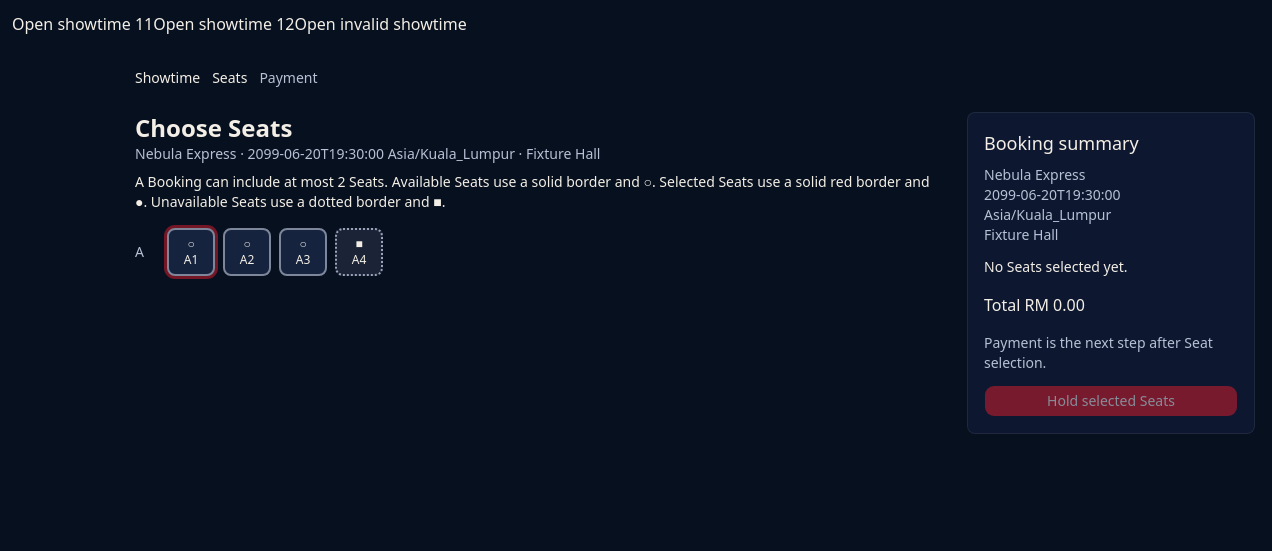
SeatSelectionPage › selects Seats with Ticket Types, updates the MYR total, and explains the Booking Limit
Check: the heading "Choose Seats" is shown, box [135,111,292,144]
Check: the heading "Booking summary" is shown, box [984,131,1139,155]
Press Enter
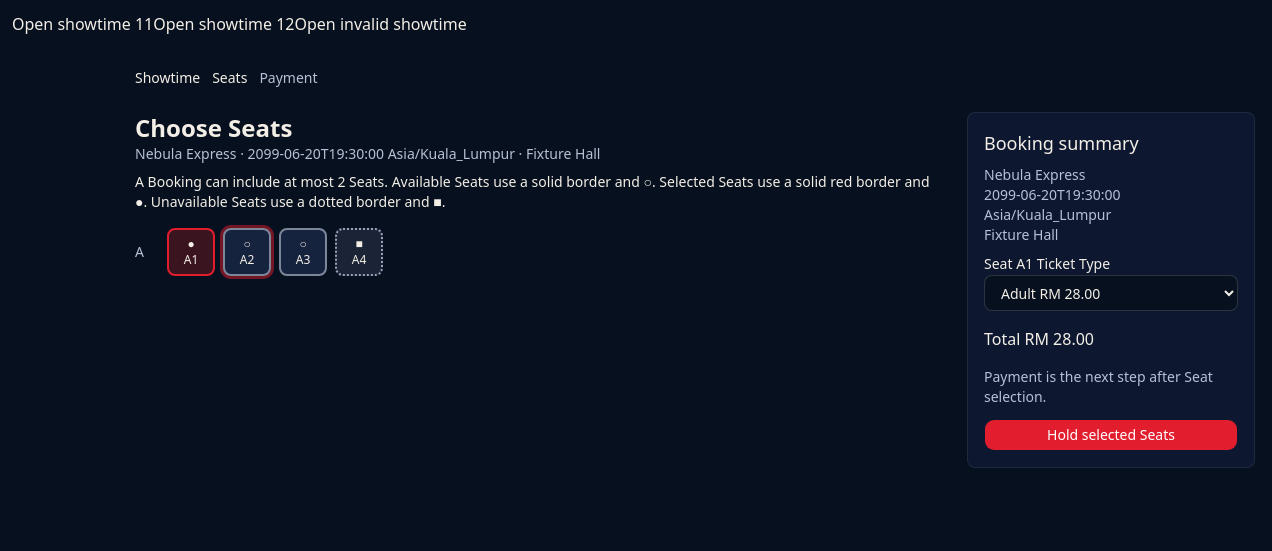
Check: the button named "Seat A1, selected" is pressed, box [167,228,215,276]
Type keys " "
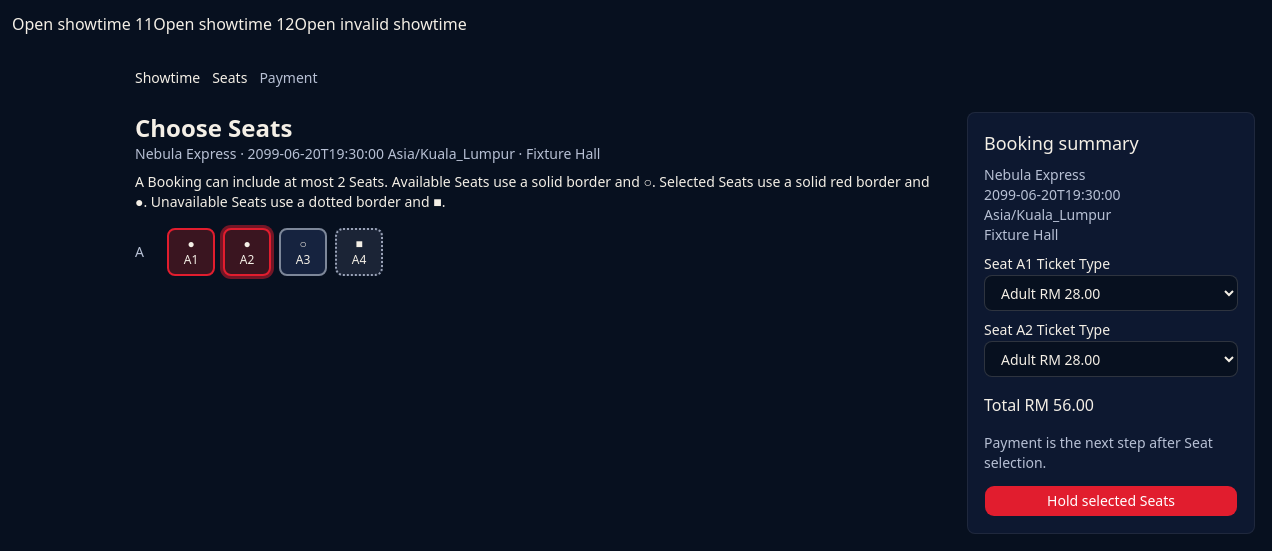
Check: the button named "Seat A2, selected" is pressed, box [223,228,271,276]
Select "Child RM 18.00" in the dropdown labelled "Seat A2 Ticket Type" at (1111, 359), box [984,341,1238,377]
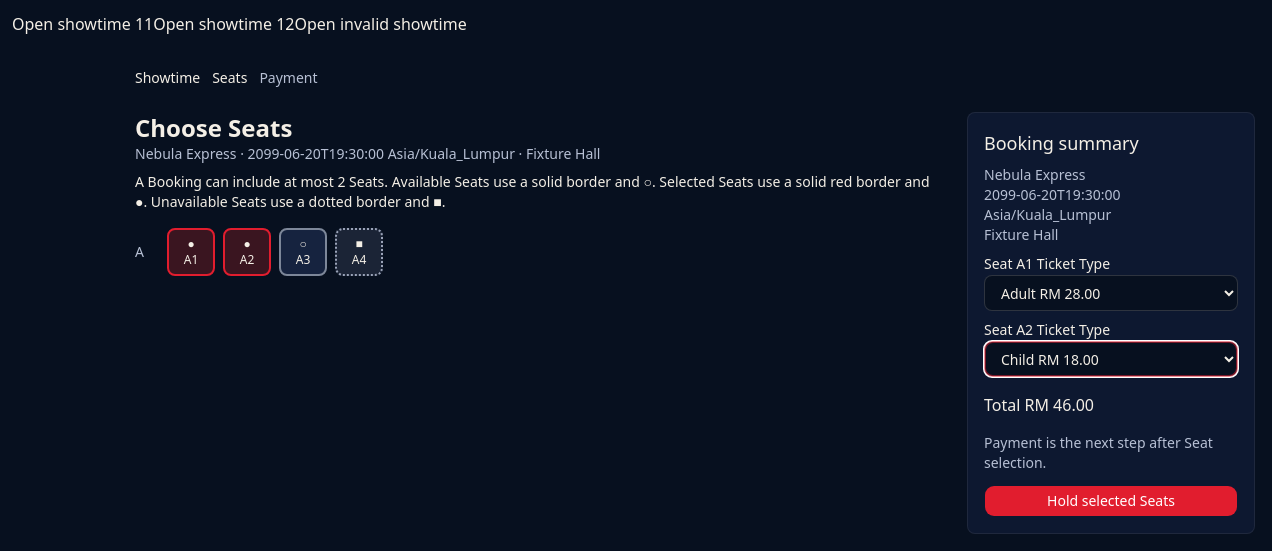
Click the button named "Seat A3, available" at (303, 252), box [279,228,327,276]
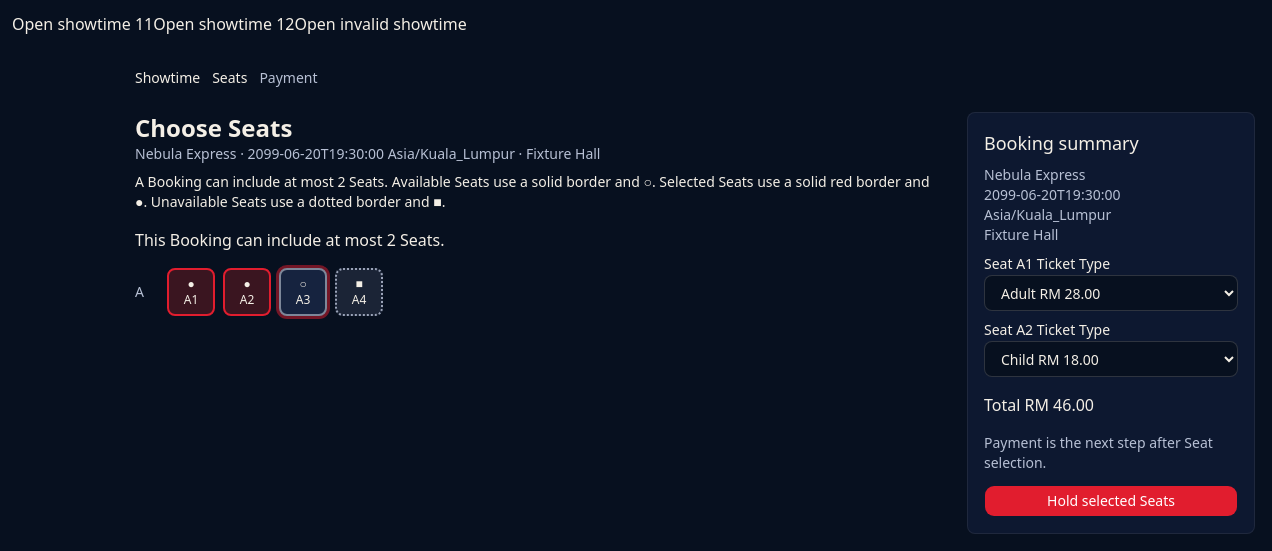
Check: the button named "Seat A3, available" is shown, box [279,268,327,316]
Check: the message "This Booking can include at most 2 Seats." is shown, box [135,229,444,251]
